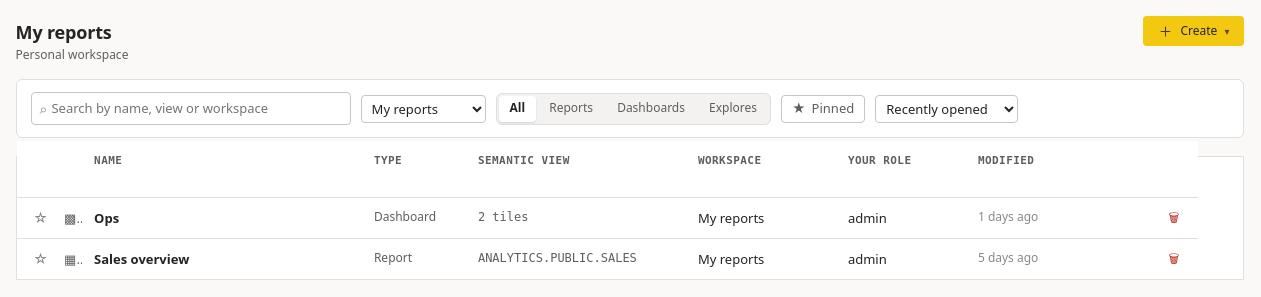
Test: WorkspacePage › narrows to one kind, and does not fetch the others
Check: the link "Sales overview" is shown, box [94, 250, 189, 268]
Step 1. Click the button "Dashboards" → (651, 109), box [606, 96, 696, 122]
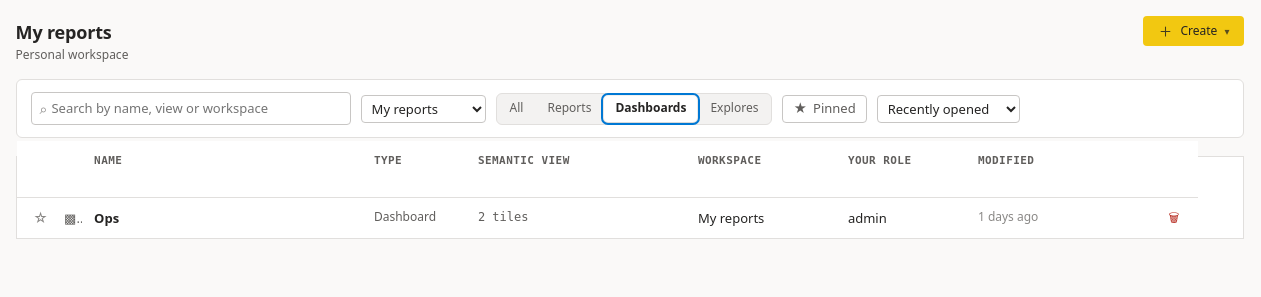
Check: the link "Ops" is shown, box [94, 209, 119, 227]
Check: the link "Sales overview" is gone
